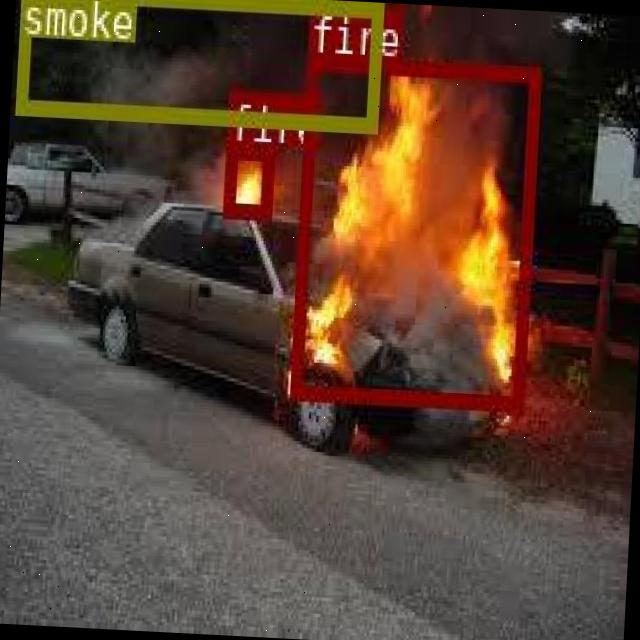fire: (289, 53, 540, 409), (222, 143, 272, 215)
smoke: (13, 0, 380, 127)
